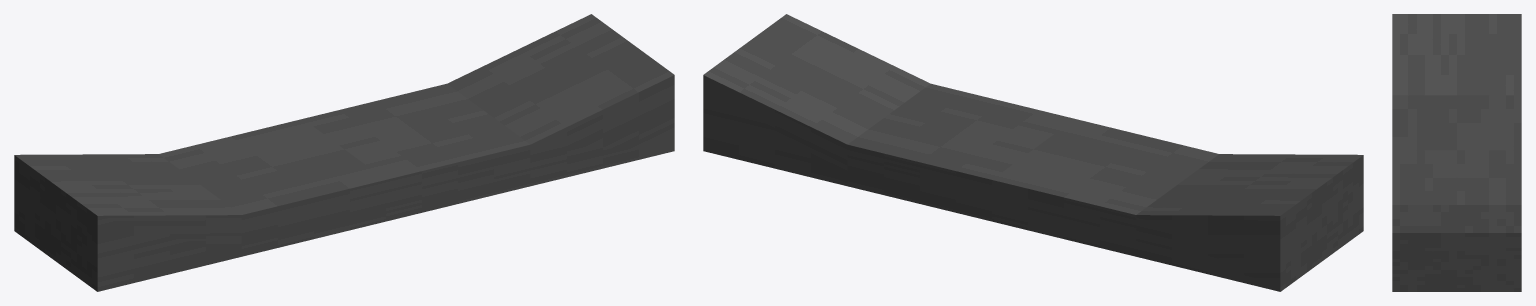
File: pillar.obj
The picture shows the model from 3 angles, left to right: view 1: azimuth 30°, elevation 25°; view 2: azimuth 150°, elevation 25°; view 3: azimuth 270°, elevation 25°; orthographic projection. The views are drawn at different scales.
Visible parts, largest first — view 1: Cube; view 2: Cube; view 3: Cube.
Part boxes in pixels (x1,y1,x2,y2): Cube: [14, 14, 674, 291]; Cube: [703, 14, 1363, 291]; Cube: [1392, 14, 1521, 291].
Bounding box in the file's own units: 3 × 0.378 × 0.75.
1 material, 1 textured.
